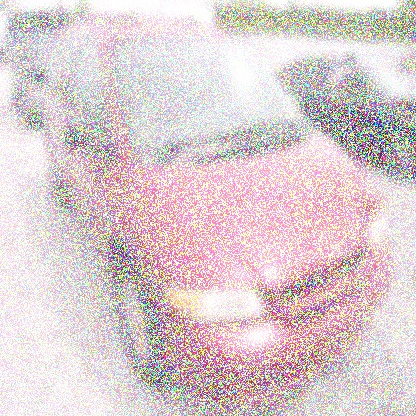Vehicle: (43, 12, 394, 411)
